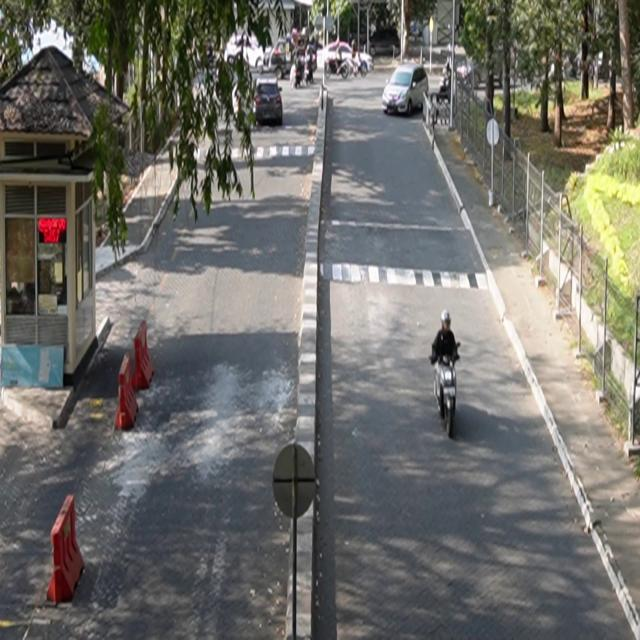car: (383, 63, 430, 117)
